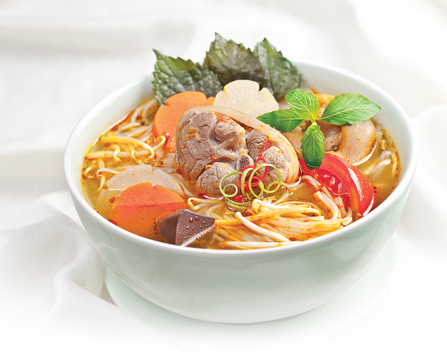pork: (179, 107, 297, 193)
tomato: (304, 155, 370, 216)
